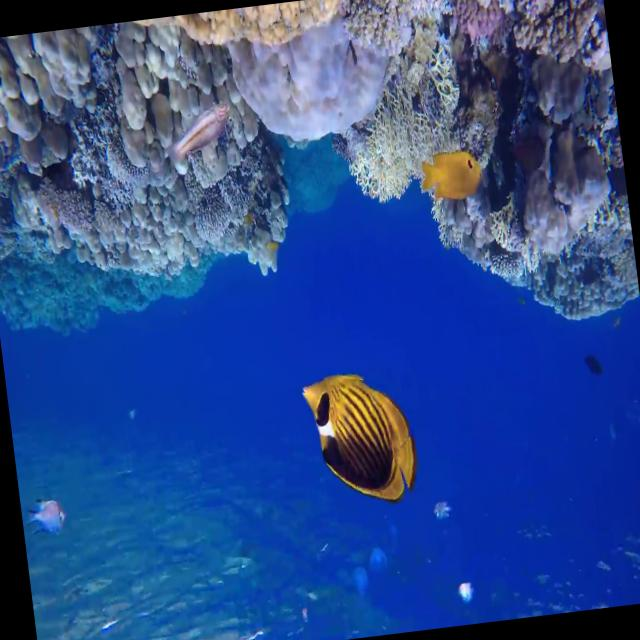fish: (302, 362, 427, 511), (410, 135, 490, 219), (18, 484, 70, 544)
